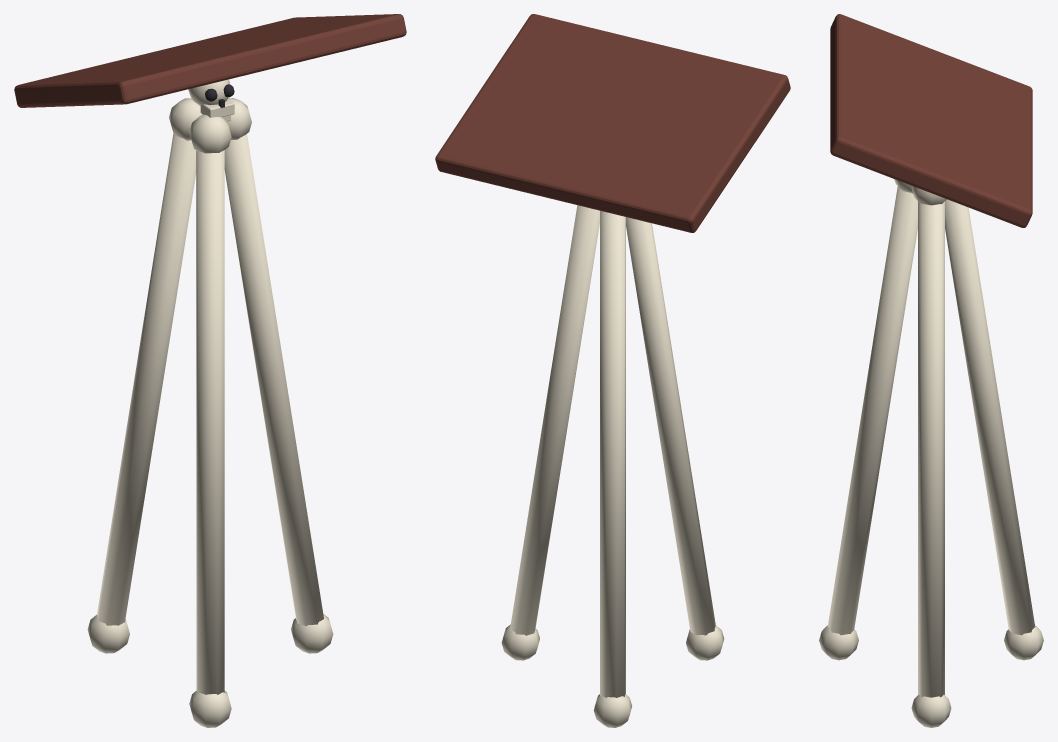
Rendered from lectern_bone.glb.
3 views of the same model, side by side, from view 1: azimuth 30°, elevation 25°; view 2: azimuth 150°, elevation 25°; view 3: azimuth 270°, elevation 25° (orthographic). The views are drawn at different scales.
Visible parts, largest first — view 1: GD_lectern_bone__m0, GD_lectern_bone__m3; view 2: GD_lectern_bone__m3, GD_lectern_bone__m0; view 3: GD_lectern_bone__m0, GD_lectern_bone__m3.
Part boxes in pixels (x1,y1,x2,y2): GD_lectern_bone__m0: (87, 79, 333, 727); GD_lectern_bone__m3: (14, 14, 406, 107); GD_lectern_bone__m3: (435, 14, 790, 232); GD_lectern_bone__m0: (501, 205, 724, 727); GD_lectern_bone__m0: (819, 179, 1043, 727); GD_lectern_bone__m3: (830, 14, 1032, 227).
Size of the model in its own units: 0.56 by 1.25 by 0.4214.
